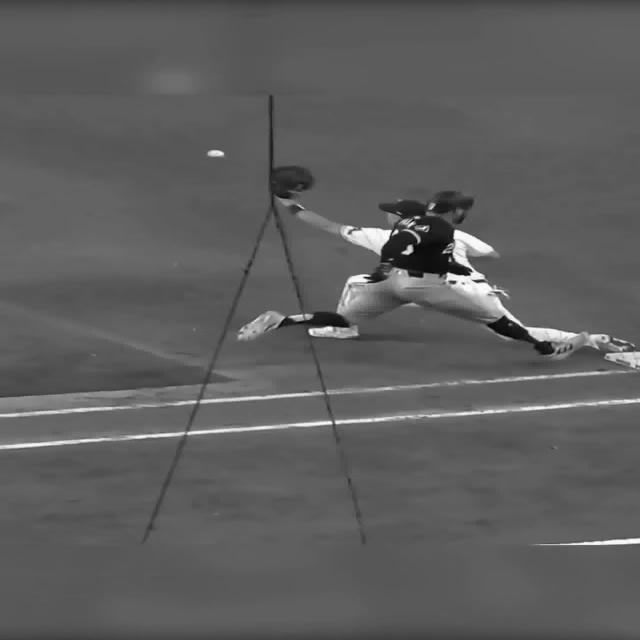base: (605, 351, 640, 370)
baseball: (207, 150, 224, 158)
baseball_glove: (271, 165, 313, 199)
shoe: (238, 311, 287, 341), (542, 332, 589, 360), (587, 334, 636, 352), (309, 325, 360, 339)
